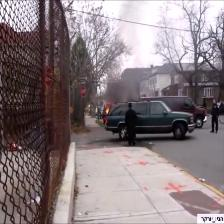fire: (105, 104, 112, 115)
nofire: (44, 65, 57, 89), (80, 84, 89, 105), (103, 116, 109, 126)
smoke: (104, 37, 141, 106)
